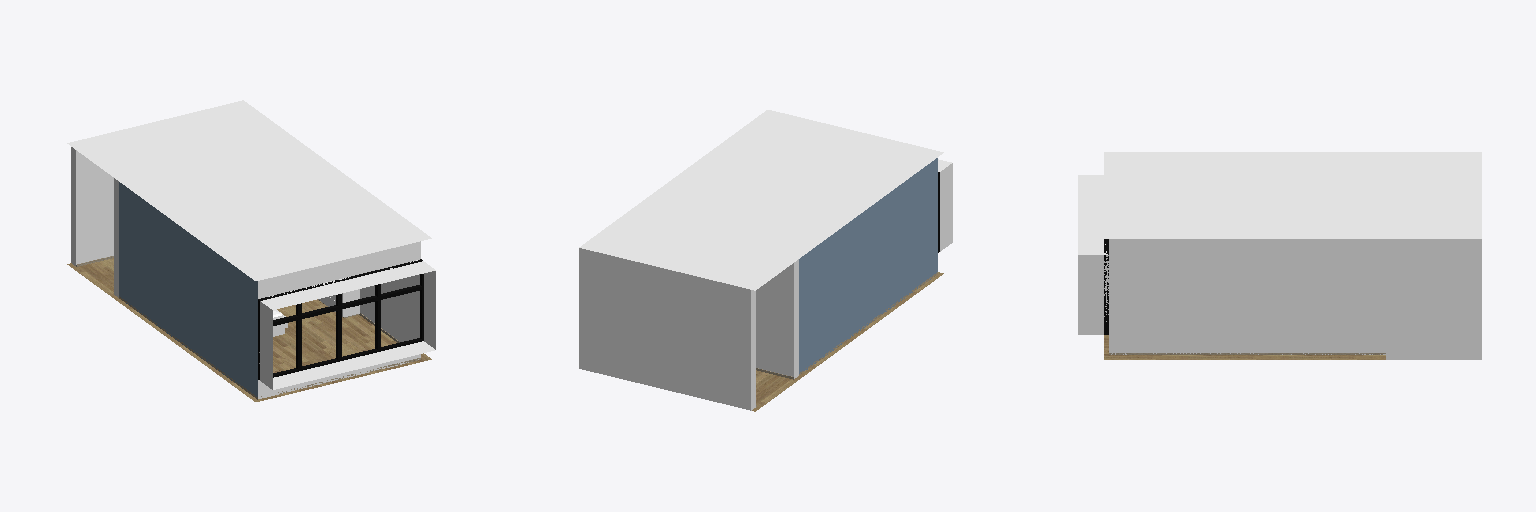
3 renders of one model, left to right at view 1: azimuth 30°, elevation 25°; view 2: azimuth 150°, elevation 25°; view 3: azimuth 270°, elevation 25°, orthographic.
Visible parts, largest first — view 1: Object002, Object008, Object006, Object004, Object, Plane001, Box001; view 2: Object002, Object, Object008, Object004, Object006; view 3: Object002, Box001, Object, Object006, Object004, Box008.
Boxes of the visible parts, x1=… form: Object002: x1=67, y1=100, x2=431, y2=280; Object008: x1=119, y1=182, x2=257, y2=396; Object006: x1=258, y1=241, x2=435, y2=398; Object004: x1=67, y1=258, x2=431, y2=401; Object: x1=71, y1=147, x2=118, y2=297; Plane001: x1=258, y1=259, x2=423, y2=379; Box001: x1=360, y1=274, x2=419, y2=341; Object002: x1=579, y1=110, x2=943, y2=290; Object: x1=579, y1=248, x2=798, y2=410; Object008: x1=799, y1=158, x2=937, y2=373; Object004: x1=752, y1=272, x2=943, y2=411; Object006: x1=938, y1=159, x2=952, y2=251; Object002: x1=1104, y1=152, x2=1481, y2=238; Box001: x1=1109, y1=239, x2=1385, y2=354; Object: x1=1386, y1=239, x2=1481, y2=359; Object006: x1=1078, y1=175, x2=1108, y2=334; Object004: x1=1104, y1=335, x2=1385, y2=359; Box008: x1=1242, y1=287, x2=1292, y2=313.
Bounding box in the file's own units: 4050 × 2650 × 8000.
Materials: 7 (2 with a texture image).